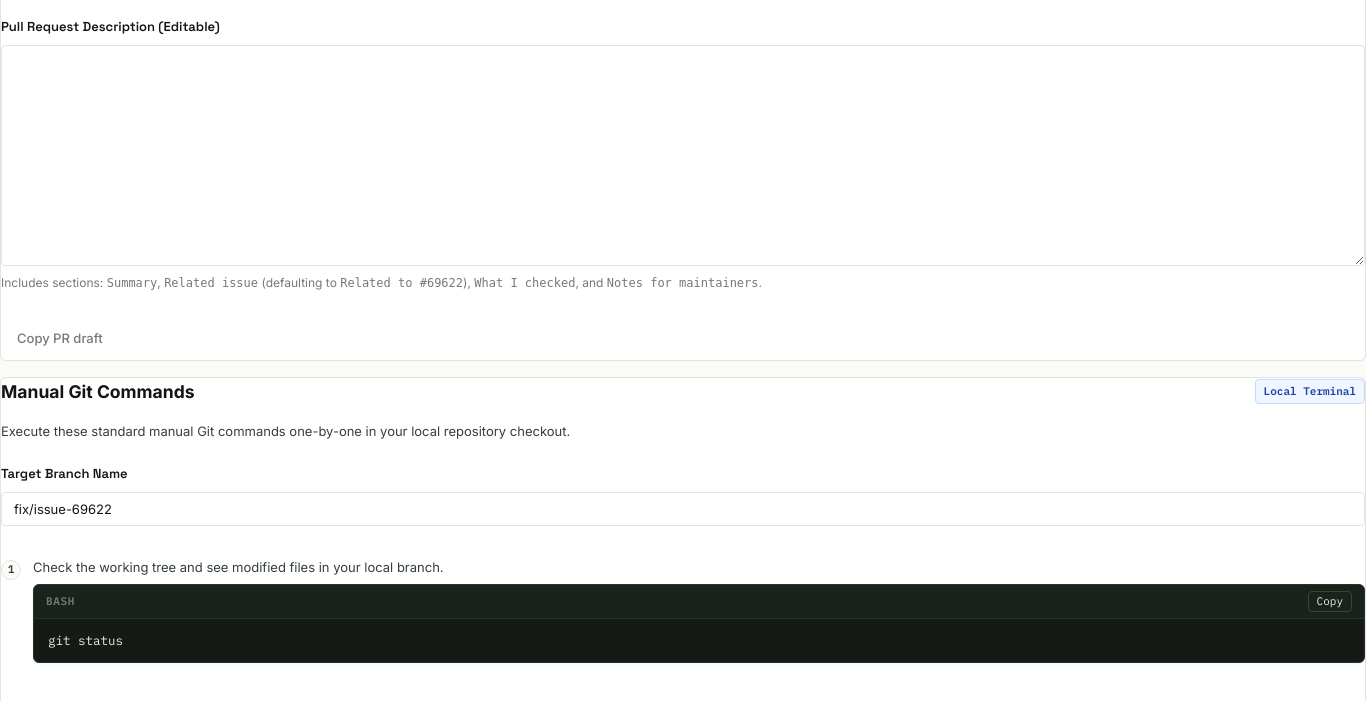
Test: Manual Handoff Screen & PR-Draft Preparation › provides Copy commands, Copy PR draft, Open my fork, Open upstream issue, Download proof receipt actions only
(page scrolled)
Note: Test Copy PR draft click
Click the button "Copy PR draft" at [60, 338], box x1=1 y1=316 x2=119 y2=360
(page scrolled)
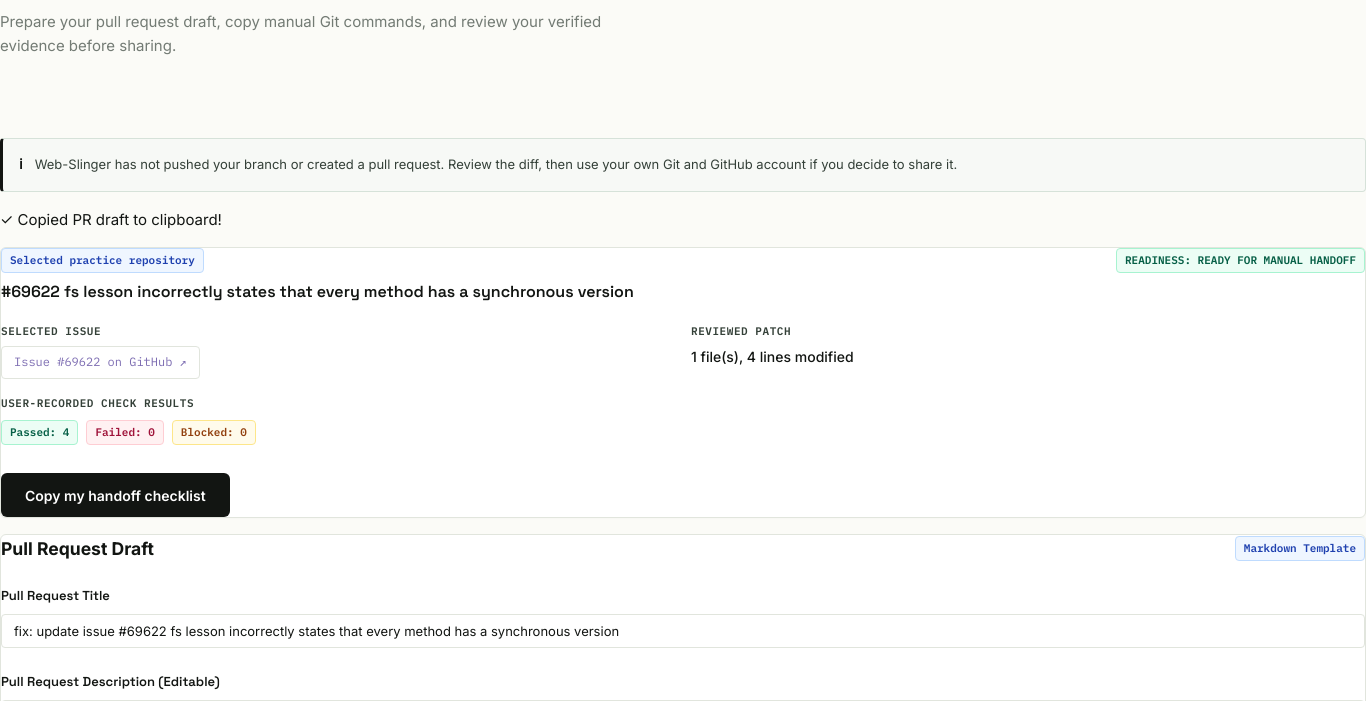
Expected: the text "✓ Copied PR draft to clipboard!" is shown, x1=0 y1=210 x2=222 y2=229
